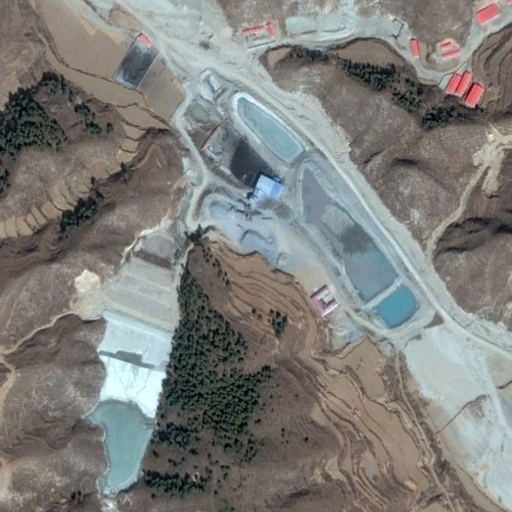tp: (233, 91, 425, 332), (82, 230, 176, 488)
